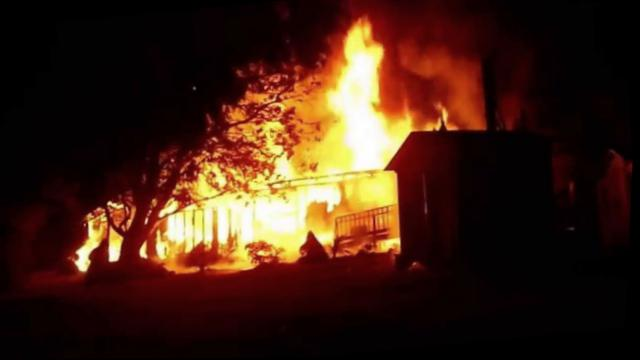fire: (53, 9, 449, 299)
